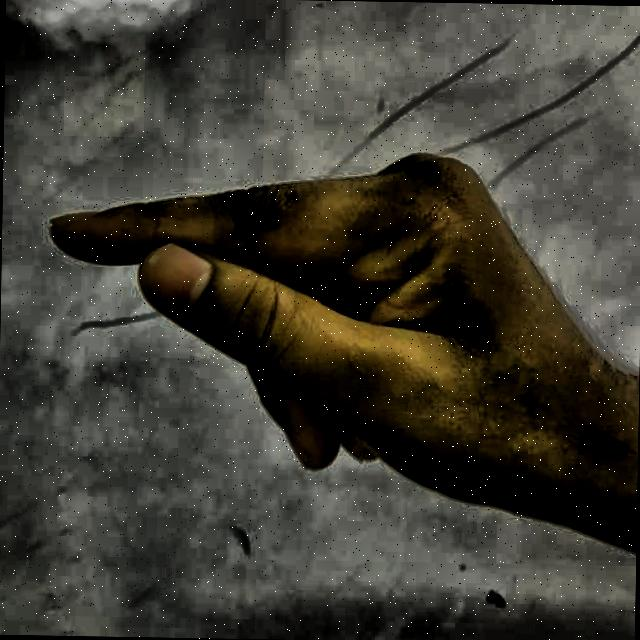Tha: (31, 125, 631, 566)
